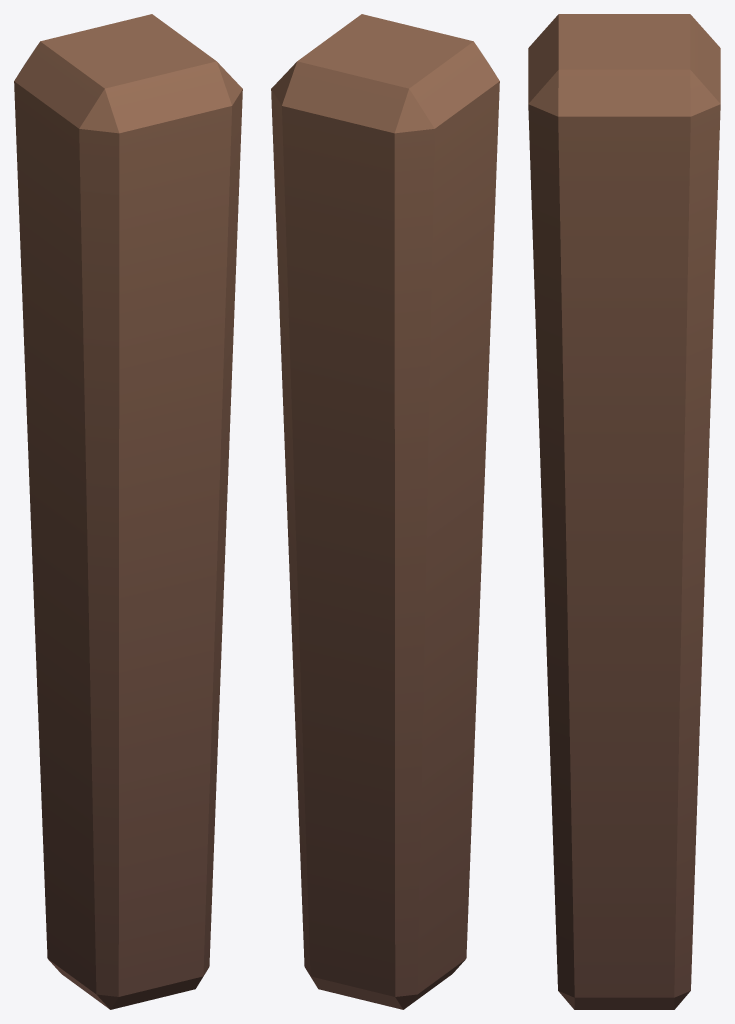
The model's file is Trainingdummy_Base_Trainingdummy_Post.obj.
3 views of the same model, side by side, from view 1: azimuth 30°, elevation 25°; view 2: azimuth 150°, elevation 25°; view 3: azimuth 270°, elevation 25° (orthographic).
Parts seen in each view (by area): view 1: Trainingdummy_Post; view 2: Trainingdummy_Post; view 3: Trainingdummy_Post.
Boxes of the visible parts, x1=… form: Trainingdummy_Post: x1=14, y1=14, x2=242, y2=1009; Trainingdummy_Post: x1=271, y1=14, x2=499, y2=1009; Trainingdummy_Post: x1=528, y1=14, x2=720, y2=1009.
Bounding box in the file's own units: 0.2369 × 1.29 × 0.2369.
1 material, 1 textured.
